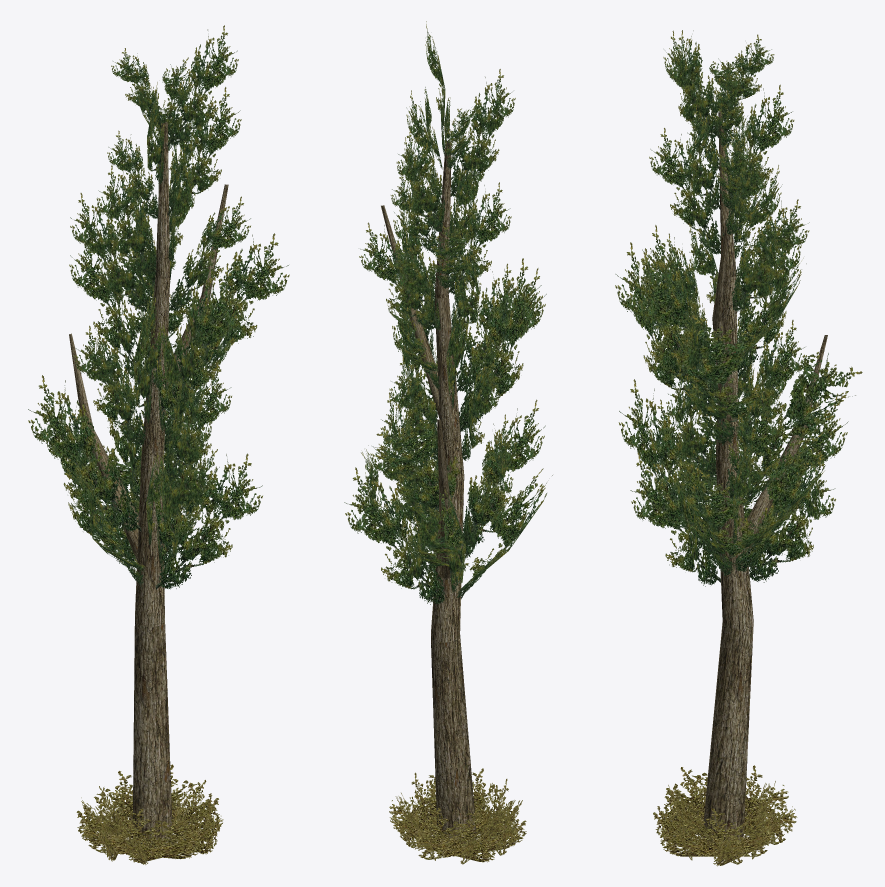
Rendered from w_cd_gra_03.glb.
3 views of the same model, side by side, from view 1: azimuth 30°, elevation 25°; view 2: azimuth 150°, elevation 25°; view 3: azimuth 270°, elevation 25° (orthographic). The views are drawn at different scales.
Visible parts, largest first — view 1: w_cd_lea_03, w_cd_wood_03, w_cd_gra_03; view 2: w_cd_lea_03, w_cd_wood_03, w_cd_gra_03; view 3: w_cd_lea_03, w_cd_wood_03, w_cd_gra_03.
Part boxes in pixels (x1,y1,x2,y2): w_cd_lea_03: (28, 25, 289, 589); w_cd_wood_03: (69, 121, 228, 846); w_cd_gra_03: (76, 764, 223, 864); w_cd_lea_03: (344, 21, 552, 604); w_cd_wood_03: (381, 140, 476, 844); w_cd_gra_03: (389, 768, 526, 864); w_cd_lea_03: (615, 30, 862, 586); w_cd_wood_03: (703, 112, 827, 842); w_cd_gra_03: (653, 765, 797, 866).
Bounding box in the file's own units: 9.67 × 37.65 × 10.78.
Materials: 3 (3 with a texture image).
